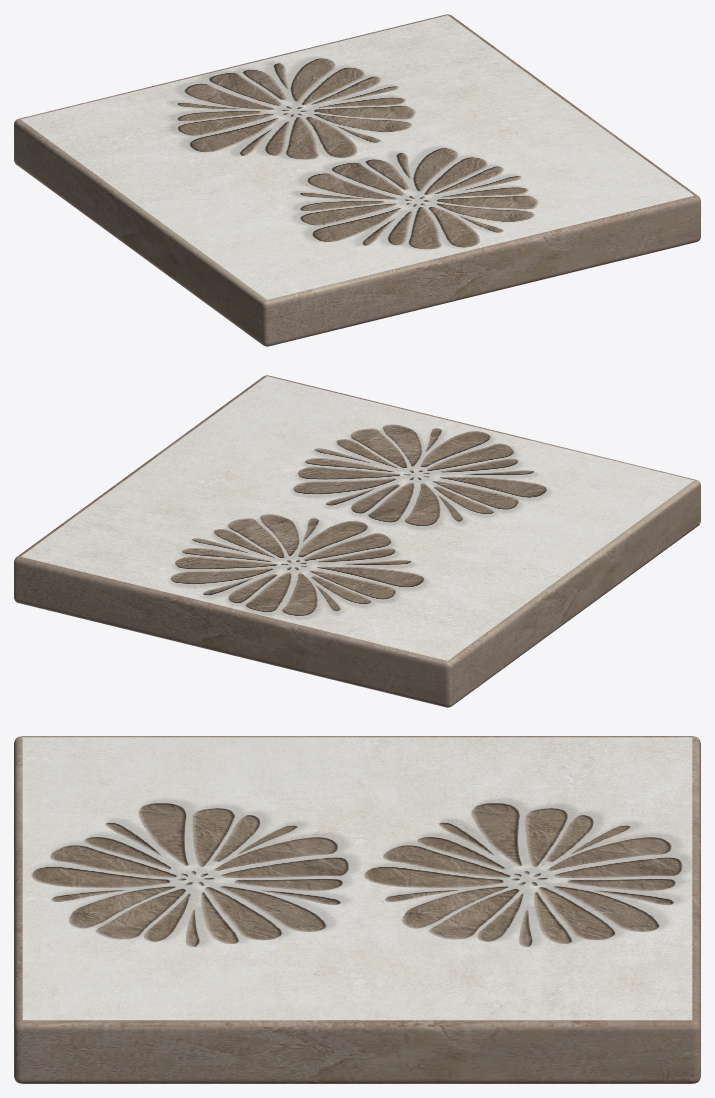
File: tile18.glb
The picture shows the model from 3 angles, top to bottom: view 1: azimuth 30°, elevation 25°; view 2: azimuth 150°, elevation 25°; view 3: azimuth 270°, elevation 25°; orthographic projection. The views are drawn at different scales.
Parts seen in each view (by area): view 1: Box001; view 2: Box001; view 3: Box001.
Part boxes in pixels (x1,y1,x2,y2): Box001: (14, 14, 700, 346); Box001: (14, 375, 700, 707); Box001: (14, 736, 700, 1083).
Size of the model in its own units: 0.254 by 0.0254 by 0.254.
Materials: 2 (2 with a texture image).
